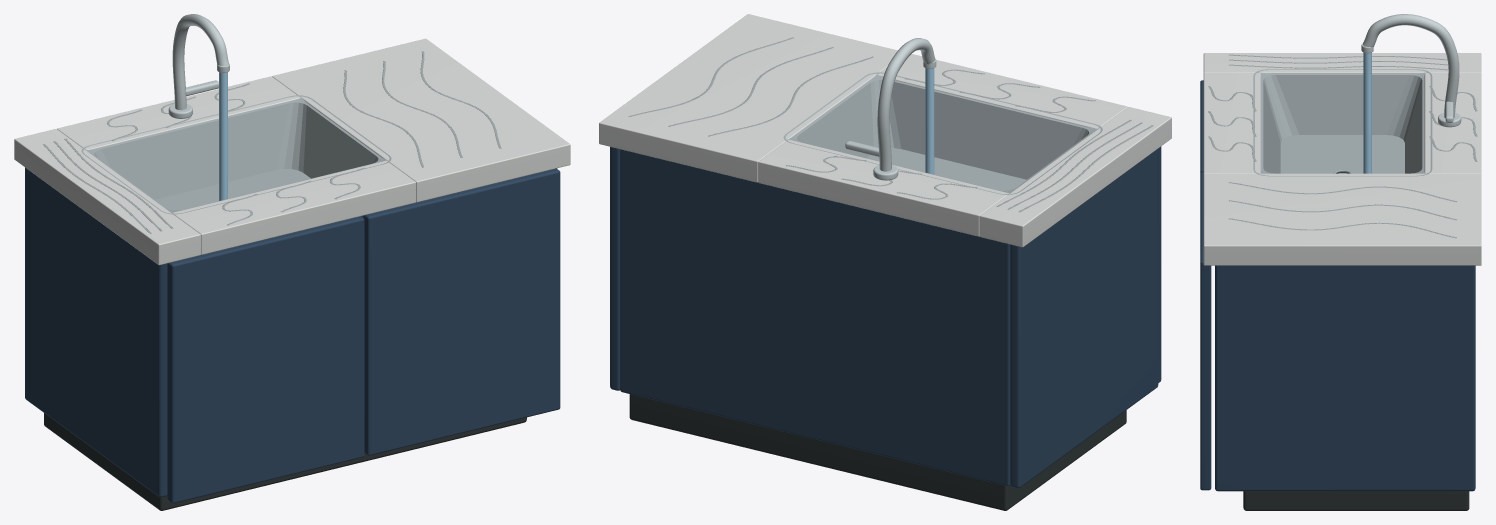
The model's file is kitchenModernSinkNavy.glb.
3 views of the same model, side by side, from view 1: azimuth 30°, elevation 25°; view 2: azimuth 150°, elevation 25°; view 3: azimuth 270°, elevation 25° (orthographic). The views are drawn at different scales.
Parts seen in each view (by area): view 1: Handleless sink cabinet door, Handleless sink cabinet door.001, Sink cabinet side, Thick stone worktop.001, Recessed sink bowl, Thick stone worktop.002, Thick stone worktop, Thick stone worktop.003, Recessed kitchen plinth, Curved mixer tap, Interaction water; view 2: Sink cabinet back, Sink cabinet side, Thick stone worktop.001, Recessed sink bowl, Recessed kitchen plinth, Thick stone worktop.003, Thick stone worktop, Thick stone worktop.002, Sink cabinet side.001, Curved mixer tap, Interaction water, Handleless sink cabinet door; view 3: Sink cabinet side.001, Thick stone worktop.001, Recessed sink bowl, Thick stone worktop.002, Thick stone worktop, Thick stone worktop.003, Recessed kitchen plinth, Handleless sink cabinet door.001, Curved mixer tap, Interaction water, Fine stone vein.004, Fine stone vein.003 (+5 smaller).
Boxes of the visible parts, bbox=[...] form: Handleless sink cabinet door: bbox=[167, 216, 364, 503]; Handleless sink cabinet door.001: bbox=[363, 168, 560, 455]; Sink cabinet side: bbox=[25, 167, 167, 497]; Thick stone worktop.001: bbox=[272, 38, 570, 202]; Recessed sink bowl: bbox=[81, 95, 391, 214]; Thick stone worktop.002: bbox=[172, 160, 415, 254]; Thick stone worktop: bbox=[14, 129, 200, 265]; Thick stone worktop.003: bbox=[57, 76, 300, 149]; Recessed kitchen plinth: bbox=[44, 413, 526, 510]; Curved mixer tap: bbox=[172, 14, 228, 110]; Interaction water: bbox=[219, 72, 227, 200]; Sink cabinet back: bbox=[620, 149, 1010, 486]; Sink cabinet side: bbox=[1010, 149, 1158, 488]; Thick stone worktop.001: bbox=[599, 14, 897, 182]; Recessed sink bowl: bbox=[783, 72, 1102, 194]; Recessed kitchen plinth: bbox=[629, 394, 1126, 510]; Thick stone worktop.003: bbox=[758, 139, 1008, 236]; Thick stone worktop: bbox=[979, 107, 1171, 247]; Thick stone worktop.002: bbox=[877, 54, 1127, 128]; Sink cabinet side.001: bbox=[610, 147, 620, 390]; Curved mixer tap: bbox=[877, 38, 935, 171]; Interaction water: bbox=[925, 68, 934, 174]; Handleless sink cabinet door: bbox=[1158, 146, 1161, 382]; Sink cabinet side.001: bbox=[1215, 265, 1475, 491]; Thick stone worktop.001: bbox=[1203, 173, 1481, 265]; Recessed sink bowl: bbox=[1253, 69, 1432, 176]; Thick stone worktop.002: bbox=[1203, 73, 1260, 173]; Thick stone worktop: bbox=[1203, 53, 1481, 73]; Thick stone worktop.003: bbox=[1424, 73, 1481, 173]; Recessed kitchen plinth: bbox=[1243, 491, 1469, 510]; Handleless sink cabinet door.001: bbox=[1200, 172, 1211, 490]; Curved mixer tap: bbox=[1363, 14, 1459, 117]; Interaction water: bbox=[1363, 52, 1371, 173]; Fine stone vein.004: bbox=[1228, 200, 1456, 220]; Fine stone vein.003: bbox=[1228, 182, 1456, 201].
Size of the model in its own units: 1.84 by 1.71 by 1.13.
